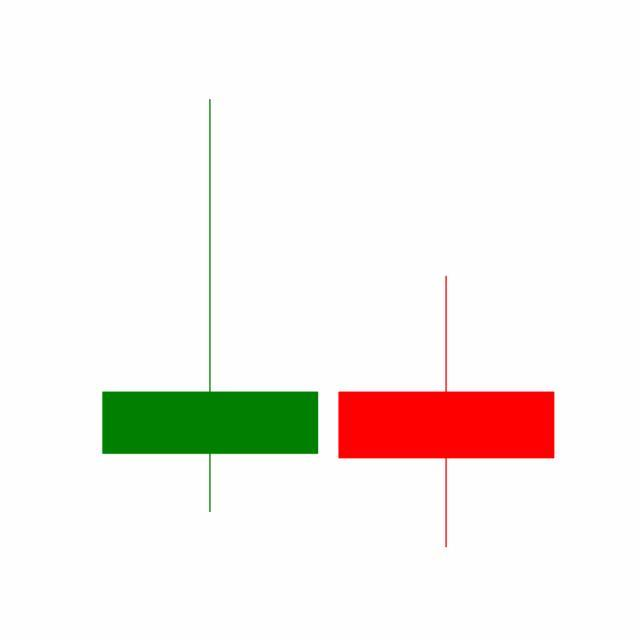Spinning Top: (328, 274, 566, 552)
